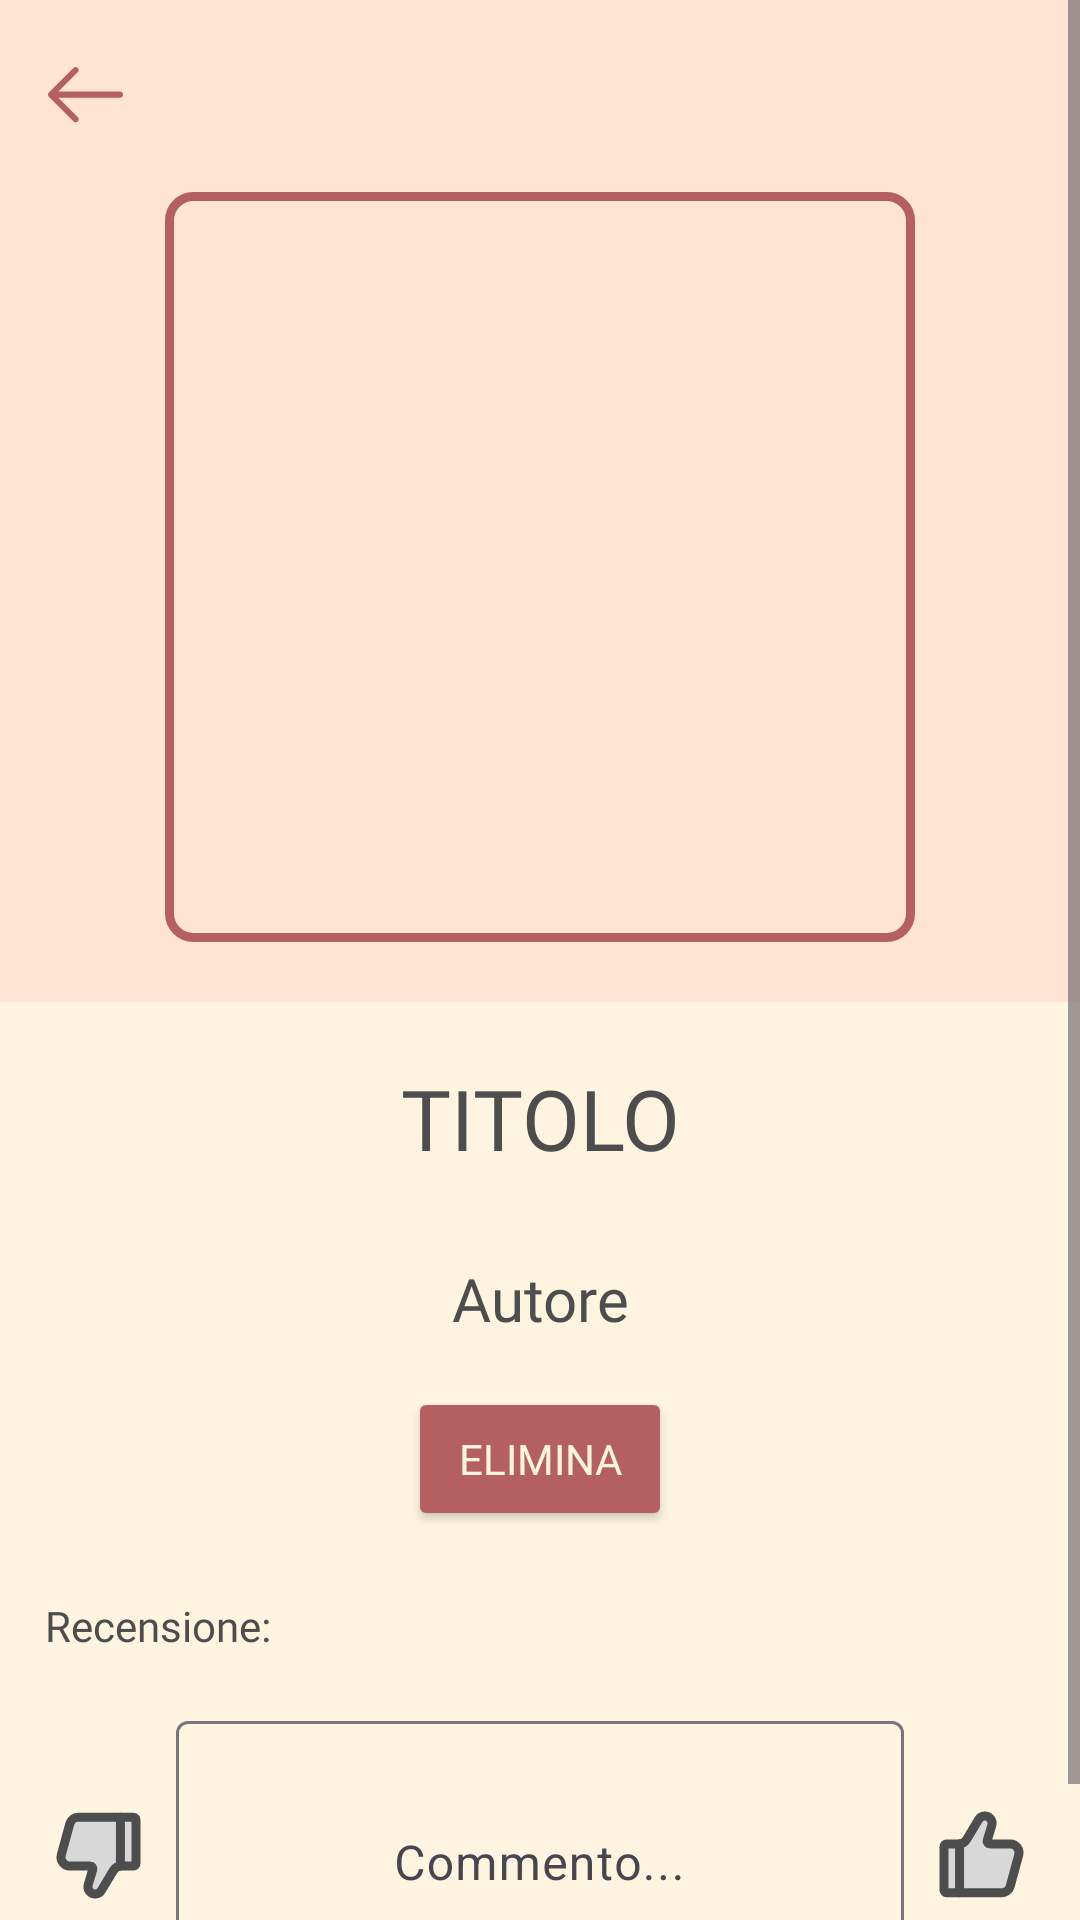

Where to tap for icons on this 1080 × 1920 app screen, as point (x, y):
back: point (85, 95)
